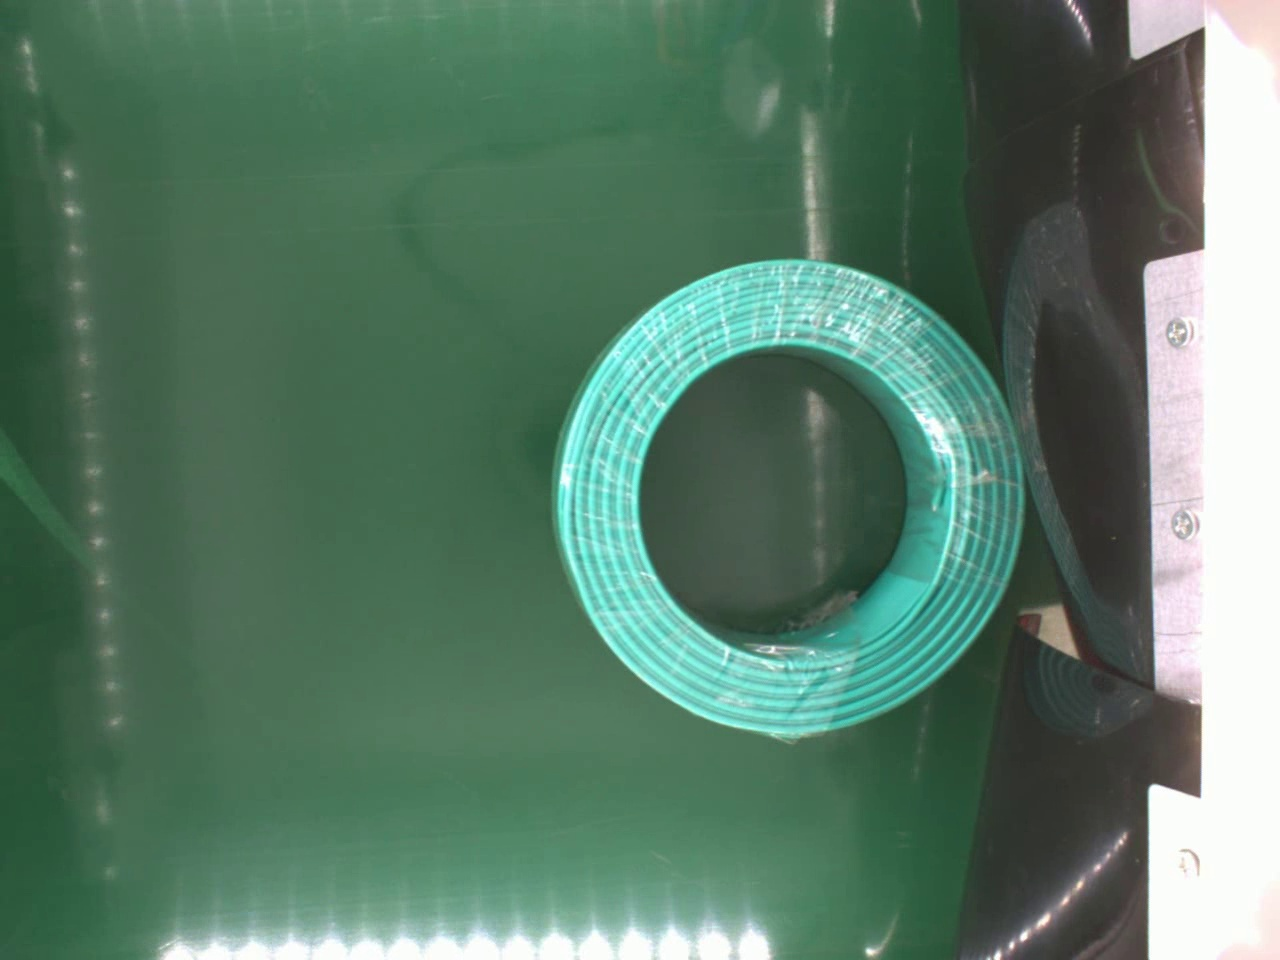green: (542, 256, 1033, 746)
